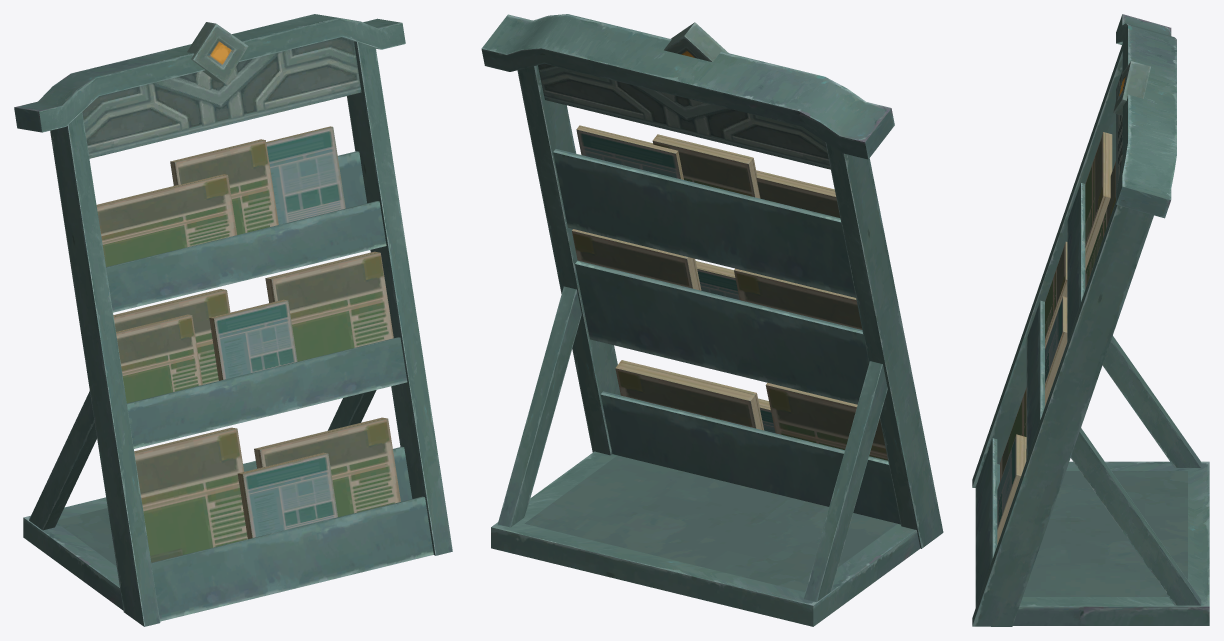
The model's file is Homeworld_Exterior_Fd_Decoration_Prop_Baokanting_02_Vo.fbx.
3 views of the same model, side by side, from view 1: azimuth 30°, elevation 25°; view 2: azimuth 150°, elevation 25°; view 3: azimuth 270°, elevation 25° (orthographic). The views are drawn at different scales.
Parts seen in each view (by area): view 1: Area_Fd_Prop_FDC_Baokanting_06_Vo; view 2: Area_Fd_Prop_FDC_Baokanting_06_Vo; view 3: Area_Fd_Prop_FDC_Baokanting_06_Vo.
Part boxes in pixels (<box>): Area_Fd_Prop_FDC_Baokanting_06_Vo: <box>14,14,452,626</box>; Area_Fd_Prop_FDC_Baokanting_06_Vo: <box>481,14,943,626</box>; Area_Fd_Prop_FDC_Baokanting_06_Vo: <box>972,14,1209,626</box>.
Bounding box in the file's own units: 1.54 × 2.05 × 0.8962.
